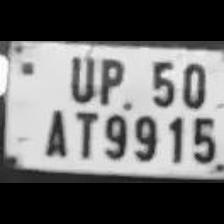0: (177, 57, 209, 109)
1: (160, 111, 186, 163)
5: (144, 55, 178, 109), (186, 111, 218, 165)
9: (129, 109, 159, 161), (99, 109, 127, 159)
A: (37, 104, 69, 158)
P: (93, 53, 125, 105)
T: (68, 106, 98, 158)
U: (63, 52, 95, 102)
